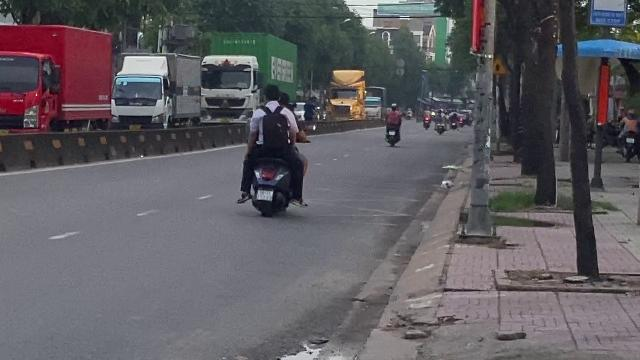licenseplate: (257, 190, 273, 200)
motorcyclist: (234, 82, 310, 218)
nohelmet: (260, 82, 280, 104)
